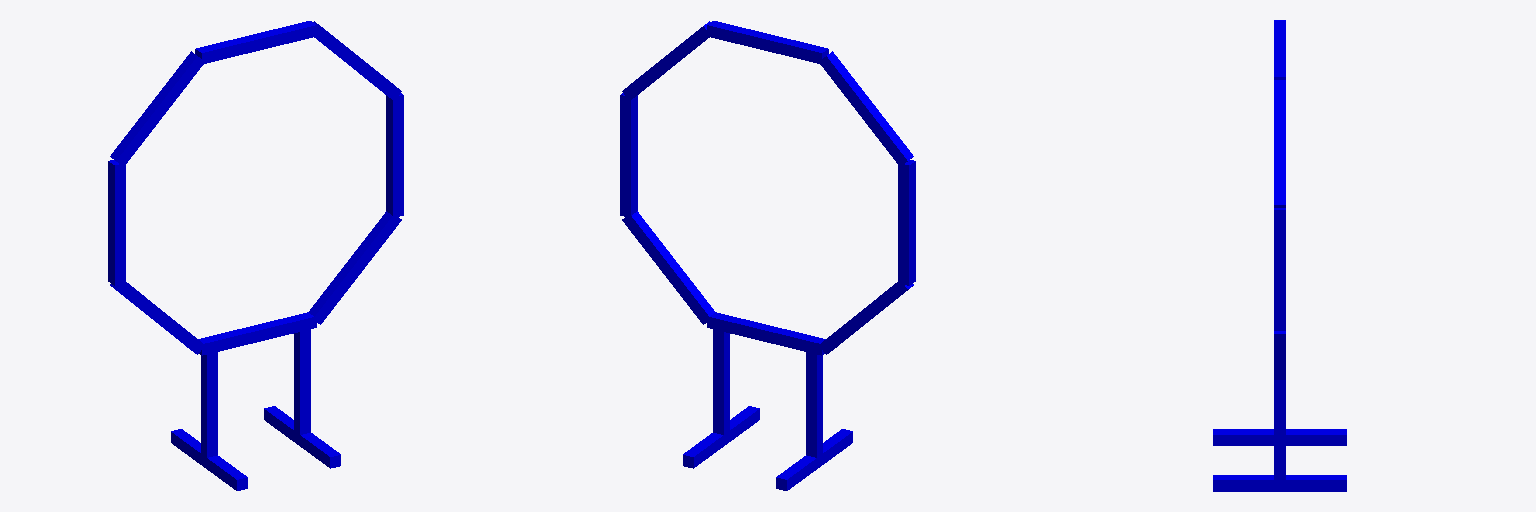
robot.urdf — octagon_shape:
<?xml version="1.0"?>
<robot name="octagon_shape">

    <link name="vicon/frame/frame">
        <visual>
            <geometry>
                <mesh filename="package://my_package/meshes/frame.stl"/>
            </geometry>
            <material name="blue">
                <color rgba="0 0 1 1"/> <!-- Color blue -->
            </material>
        </visual>

        <collision>
            <geometry>
                <mesh filename="package://my_package/meshes/frame.stl"/>
            </geometry>
        </collision>
    </link>

</robot>

--- Render facts (derived) ---
Views: 3 orthographic renders of the robot side by side, from view 1: azimuth 30°, elevation 25°; view 2: azimuth 150°, elevation 25°; view 3: azimuth 270°, elevation 25°.
Model octagon_shape with 1 links and 0 joints (none), rooted at vicon/frame/frame, posed all joints at 0.
Visible links, largest first — view 1: vicon/frame/frame; view 2: vicon/frame/frame; view 3: vicon/frame/frame.
Link boxes in pixels (x1,y1,x2,y2): vicon/frame/frame: (108,21,403,490); vicon/frame/frame: (620,21,915,490); vicon/frame/frame: (1213,20,1346,491).
Bounding box of the posed robot: 0.527 × 0.21 × 0.727 m (x, y, z).
1 mesh visuals loaded from 1 distinct referenced files (1 ASCII STL).